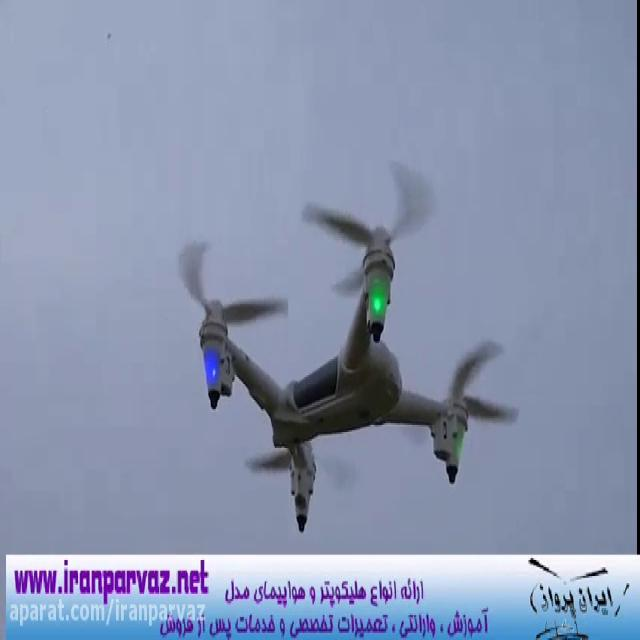drone: (170, 148, 527, 535)
